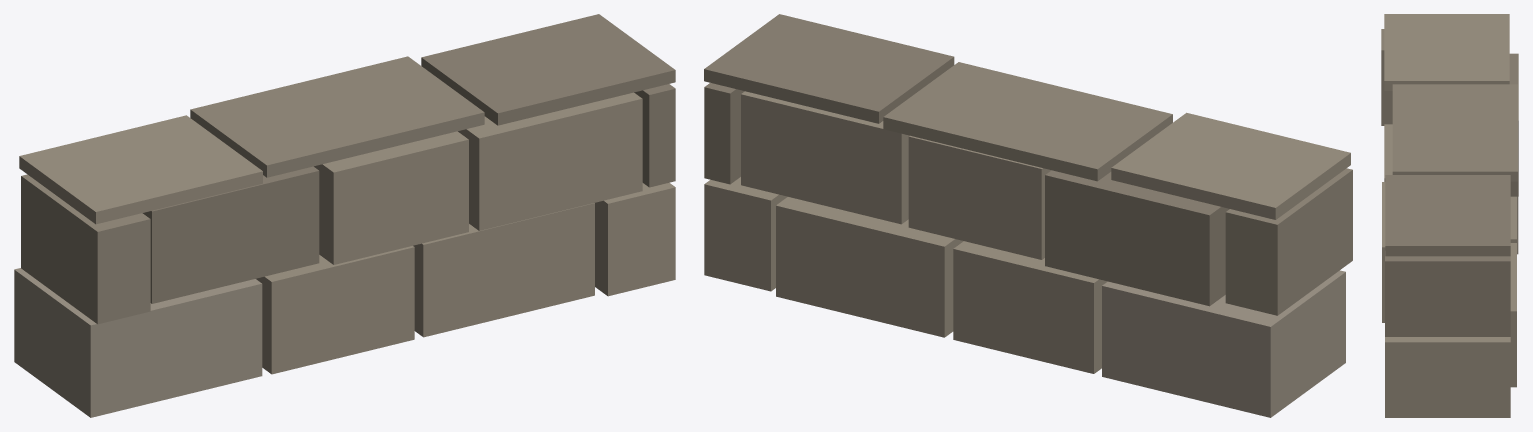
The model's file is stone_wall_2.glb.
The picture shows the model from 3 angles, left to right: view 1: azimuth 30°, elevation 25°; view 2: azimuth 150°, elevation 25°; view 3: azimuth 270°, elevation 25°; orthographic projection. The views are drawn at different scales.
Parts seen in each view (by area): view 1: stone_wall_2; view 2: stone_wall_2; view 3: stone_wall_2.
Part boxes in pixels (<box>): stone_wall_2: <box>14,14,675,417</box>; stone_wall_2: <box>704,14,1352,417</box>; stone_wall_2: <box>1381,14,1518,417</box>.
Bounding box in the file's own units: 1.97 × 0.68 × 0.4928.
